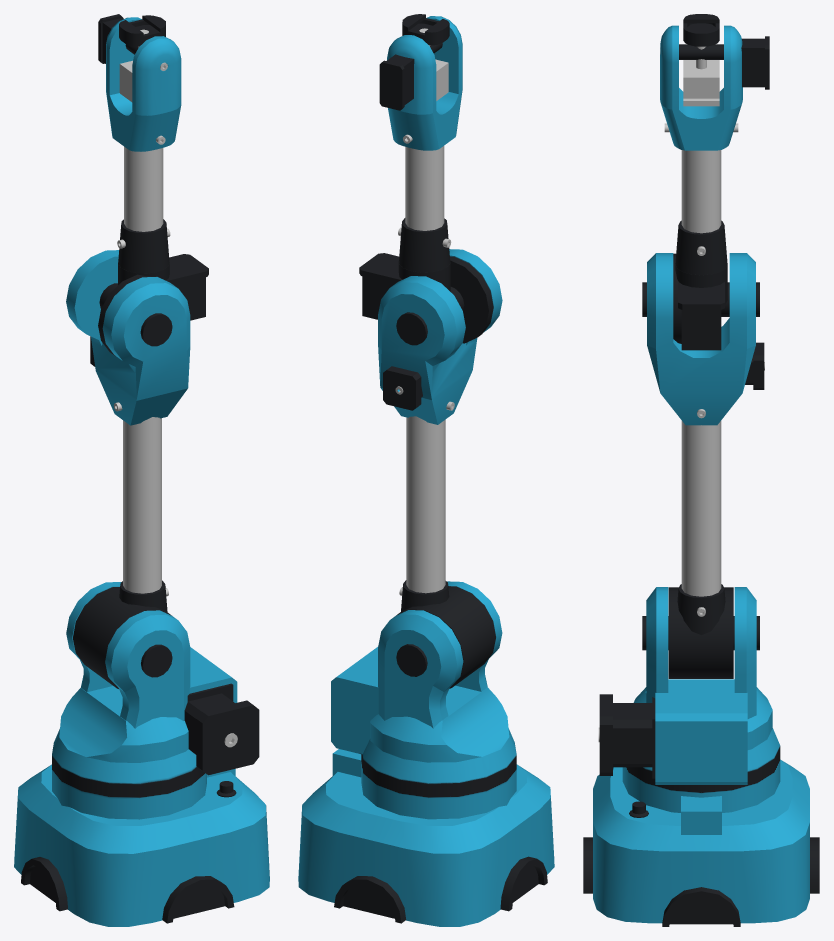
The model's file is niryo.glb.
3 views of the same model, side by side, from view 1: azimuth 30°, elevation 25°; view 2: azimuth 150°, elevation 25°; view 3: azimuth 270°, elevation 25° (orthographic).
Visible parts, largest first — view 1: Object_2; view 2: Object_2; view 3: Object_2.
Part boxes in pixels (bbox=[...]): Object_2: bbox=[14, 14, 269, 926]; Object_2: bbox=[298, 14, 554, 926]; Object_2: bbox=[583, 14, 819, 926].
Bounding box in the file's own units: 18 × 71.7 × 18.
Materials: 1 (1 with a texture image).
